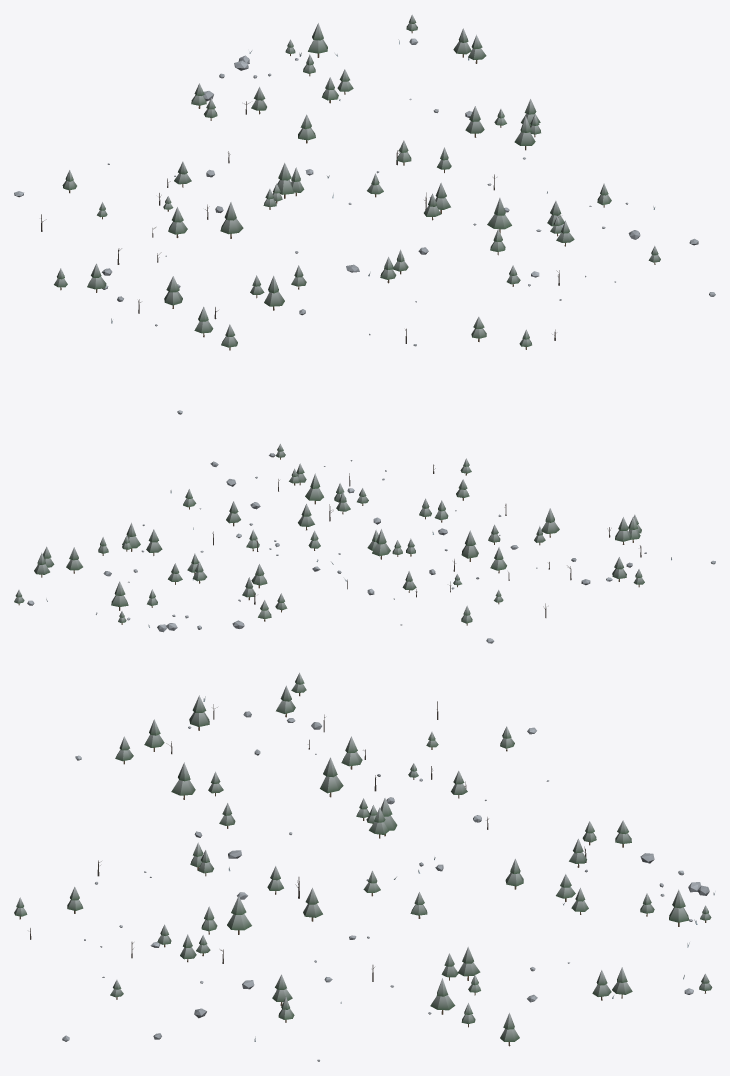
Rendered from frost_land_scatter_c14_11_lod1.glb.
3 renders of one model, top to bottom at view 1: azimuth 30°, elevation 25°; view 2: azimuth 150°, elevation 25°; view 3: azimuth 270°, elevation 25°, orthographic. The views are drawn at different scales.
Parts seen in each view (by area): view 1: frost_land_scatter_c14_11_lod1; view 2: frost_land_scatter_c14_11_lod1; view 3: frost_land_scatter_c14_11_lod1.
Part boxes in pixels (left/top/right/bottom): frost_land_scatter_c14_11_lod1: left=14, top=14, right=715, bottom=414; frost_land_scatter_c14_11_lod1: left=14, top=443, right=715, bottom=643; frost_land_scatter_c14_11_lod1: left=14, top=672, right=715, bottom=1061.
Size of the model in its own units: 258 by 40.38 by 252.
